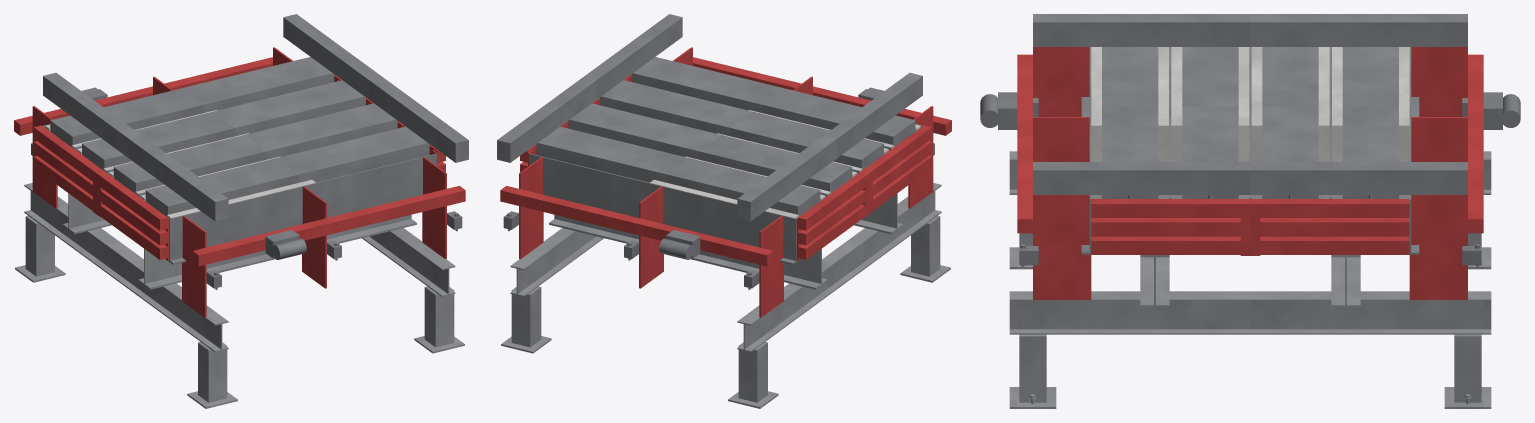
File: u-cable-duct-mould.glb
3 renders of one model, left to right at view 1: azimuth 30°, elevation 25°; view 2: azimuth 150°, elevation 25°; view 3: azimuth 270°, elevation 25°, orthographic. The views are drawn at different scales.
Visible parts, largest first — view 1: InnerCore, BaseFrame, Ribs&Walers, SideShutters, EndBulkheads, ConcreteUnit(context), Vibrators, Props&Clamps; view 2: InnerCore, BaseFrame, Ribs&Walers, SideShutters, EndBulkheads, ConcreteUnit(context), Vibrators, Props&Clamps; view 3: InnerCore, Ribs&Walers, BaseFrame, EndBulkheads, ConcreteUnit(context), Vibrators, SideShutters, Props&Clamps, SoffitBed.
Part boxes in pixels (x1,y1,x2,y2): InnerCore: [43, 14, 468, 221]; BaseFrame: [15, 183, 464, 408]; Ribs&Walers: [14, 47, 465, 317]; SideShutters: [43, 124, 436, 260]; EndBulkheads: [33, 74, 445, 260]; ConcreteUnit(context): [45, 110, 315, 218]; Vibrators: [82, 87, 306, 259]; Props&Clamps: [31, 143, 462, 289]; InnerCore: [497, 14, 922, 221]; BaseFrame: [501, 183, 950, 408]; Ribs&Walers: [500, 47, 951, 317]; SideShutters: [529, 124, 922, 260]; EndBulkheads: [520, 74, 932, 260]; ConcreteUnit(context): [650, 110, 920, 218]; Vibrators: [659, 87, 883, 259]; Props&Clamps: [503, 143, 934, 289]; InnerCore: [1033, 14, 1467, 198]; Ribs&Walers: [1017, 47, 1483, 299]; BaseFrame: [1009, 151, 1491, 408]; EndBulkheads: [1091, 199, 1409, 255]; ConcreteUnit(context): [1091, 47, 1409, 161]; Vibrators: [980, 92, 1520, 129]; SideShutters: [1089, 47, 1411, 252]; Props&Clamps: [1019, 98, 1481, 266]; SoffitBed: [1081, 97, 1419, 254].
Bounding box in the file's own units: 2.14 × 1.4 × 2.78.
5 materials, 5 textured.
